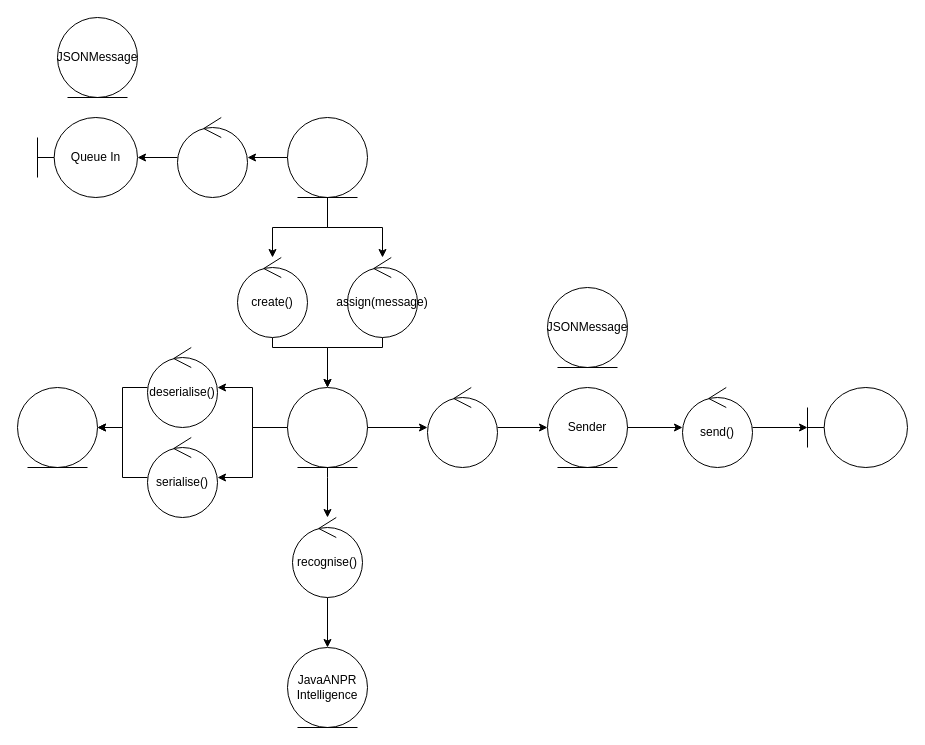
This 925x745 diagram has some shape labels left out. Each missing label, with the centre of its shape:
JSON Serialiser: (x=57, y=427)
Listener: (x=327, y=427)
Listener Container: (x=327, y=157)
receive(): (x=212, y=157)
sendToQueue(): (x=462, y=427)
Topic Out: (x=857, y=427)
